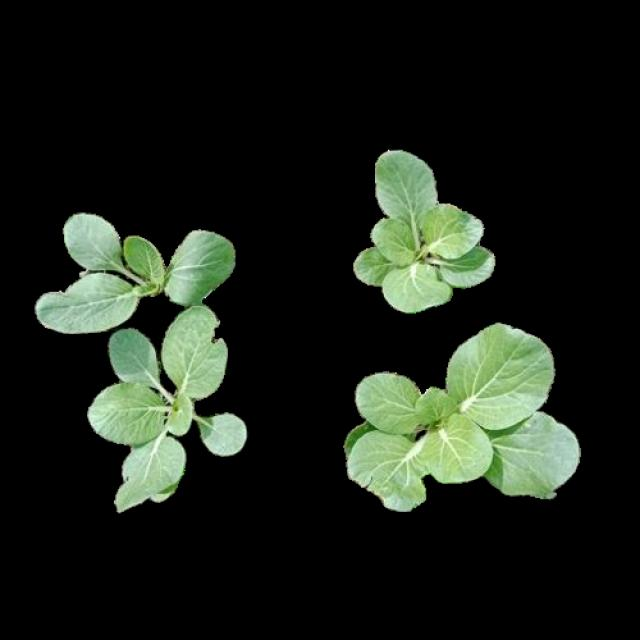healthy: (84, 302, 244, 510), (29, 206, 233, 328), (351, 146, 493, 308)
not-mature: (347, 324, 578, 508), (87, 305, 247, 512), (32, 209, 236, 330), (354, 149, 496, 311)
unhealthy: (348, 430, 432, 507)
